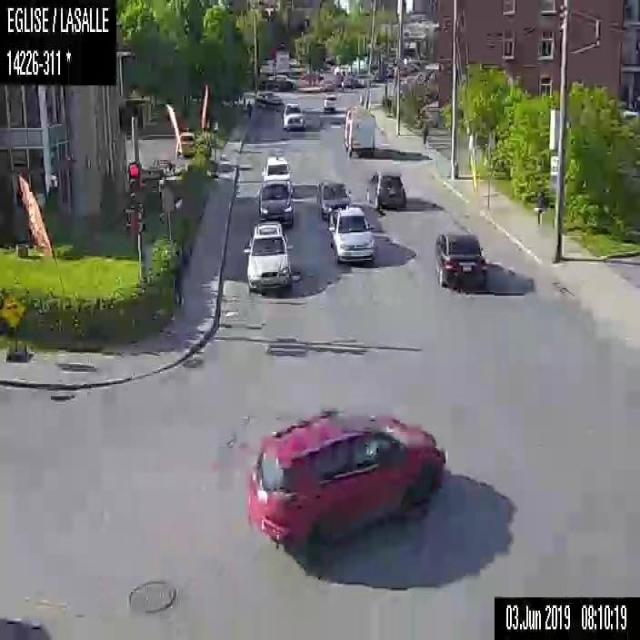pedestrian: (170, 240, 190, 306), (534, 188, 544, 228), (420, 121, 428, 147), (245, 99, 251, 117)
vehicle: (246, 408, 444, 560), (242, 218, 294, 294), (433, 228, 488, 289), (328, 206, 375, 267), (364, 166, 406, 210), (256, 179, 295, 225), (342, 104, 374, 157), (316, 176, 350, 219), (261, 153, 291, 183), (282, 100, 304, 131), (173, 130, 194, 156), (322, 92, 336, 111)
